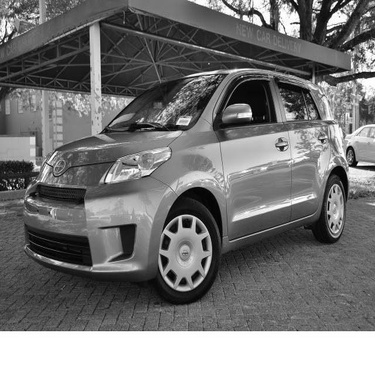car: (16, 61, 339, 276)
